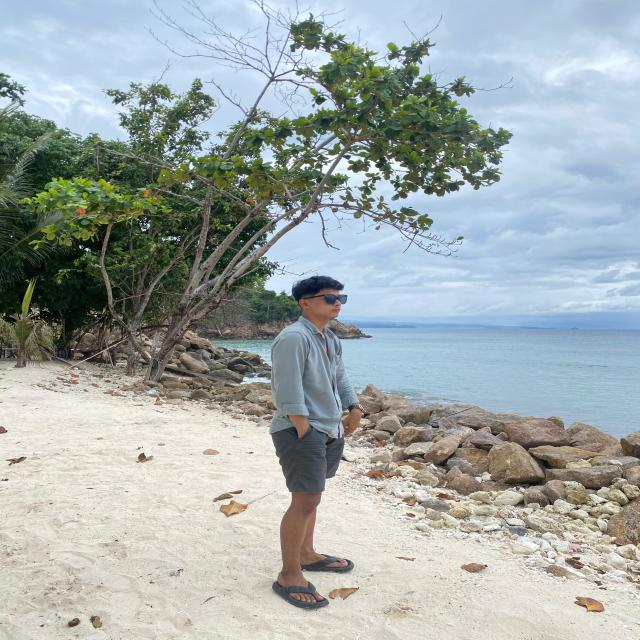nohelmet: (290, 270, 354, 332)
